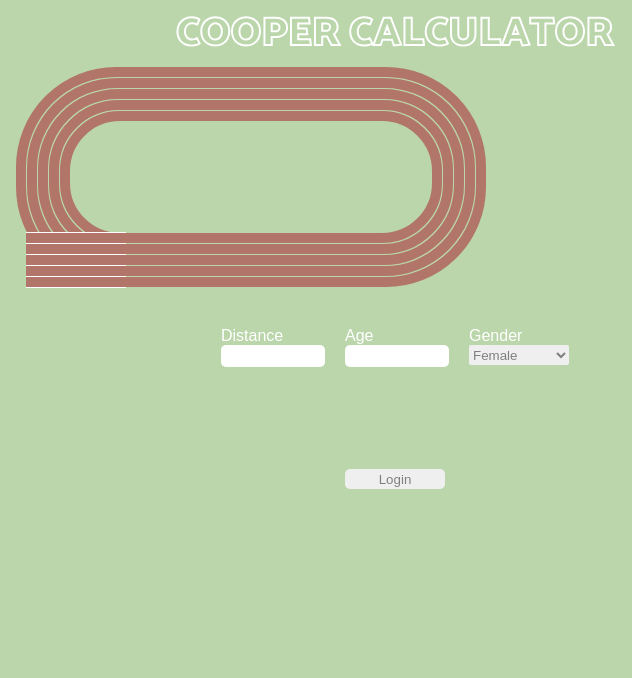
User attempts to view his/her performance data › successfully
This screenshot has width=632, height=678.
Click the button with id "login".
click(395, 479)  # box left=345, top=469, right=445, bottom=489
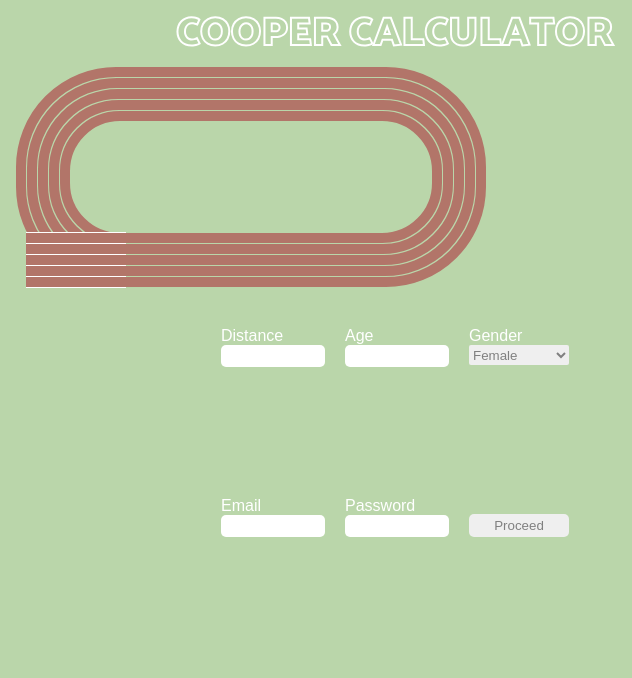
Type "user@mail.com" into the field with id "email".
click(273, 526); type("user@mail.com")  # box left=221, top=515, right=325, bottom=537
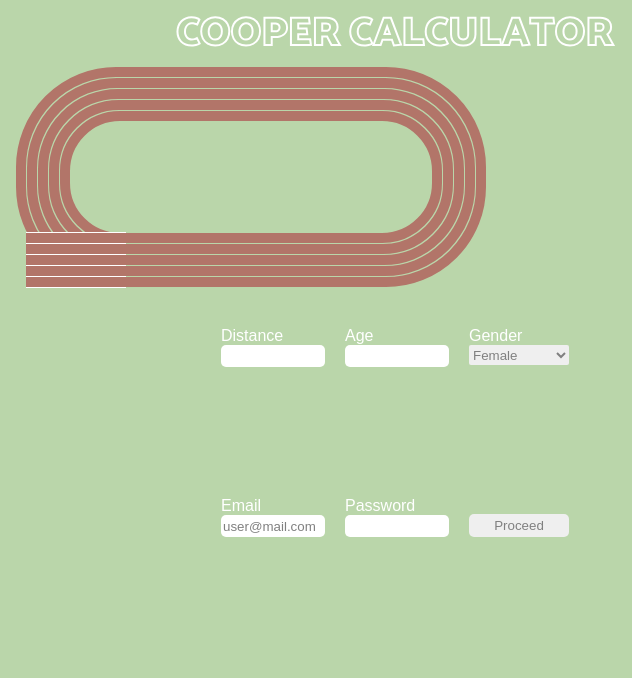
Type "password" into the field below "Password".
click(397, 526); type("password")  # box left=345, top=515, right=449, bottom=537
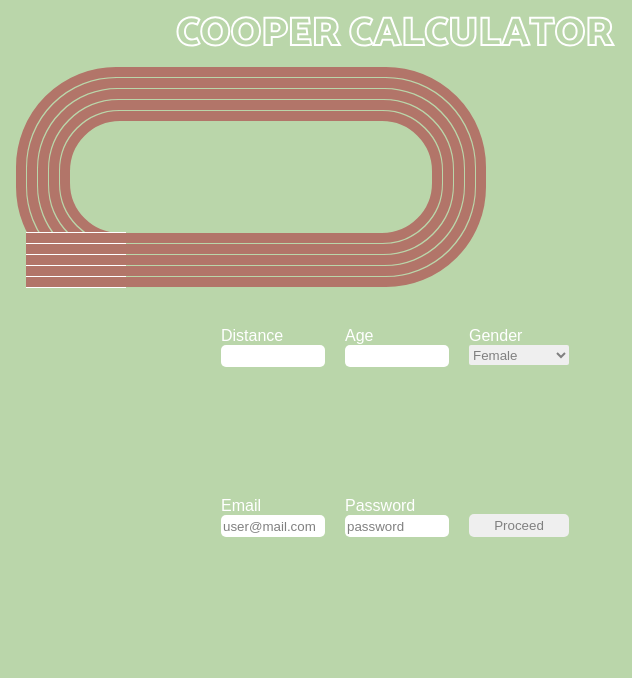
Click the button "Proceed".
click(519, 526)  # box left=469, top=514, right=569, bottom=537
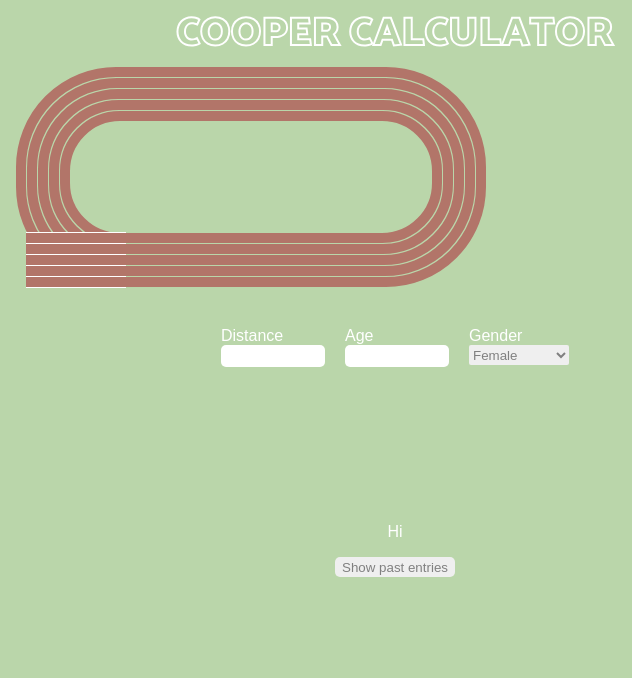
Click the button with id "show-index".
click(395, 567)  # box left=335, top=557, right=455, bottom=577
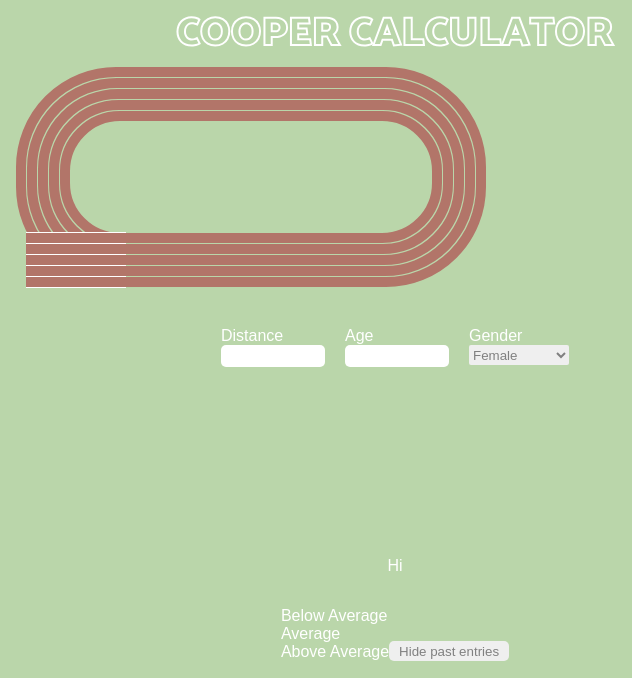
Expected: the text "Below Average" is shown, left=281, top=607, right=389, bottom=625
Expected: the text "Average" is shown, left=281, top=607, right=387, bottom=624
Expected: the text "Above Average" is shown, left=281, top=643, right=389, bottom=661
